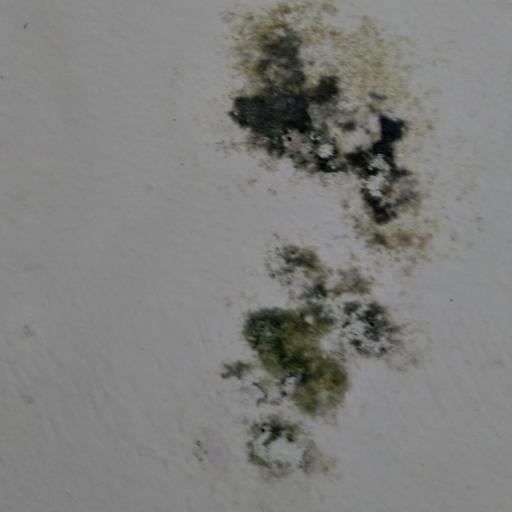algae: (186, 4, 501, 481)
